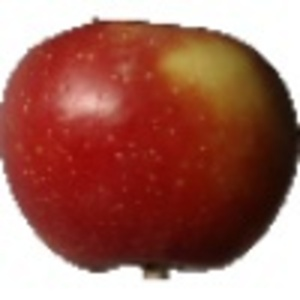maçã braeburn: (1, 16, 299, 269)
